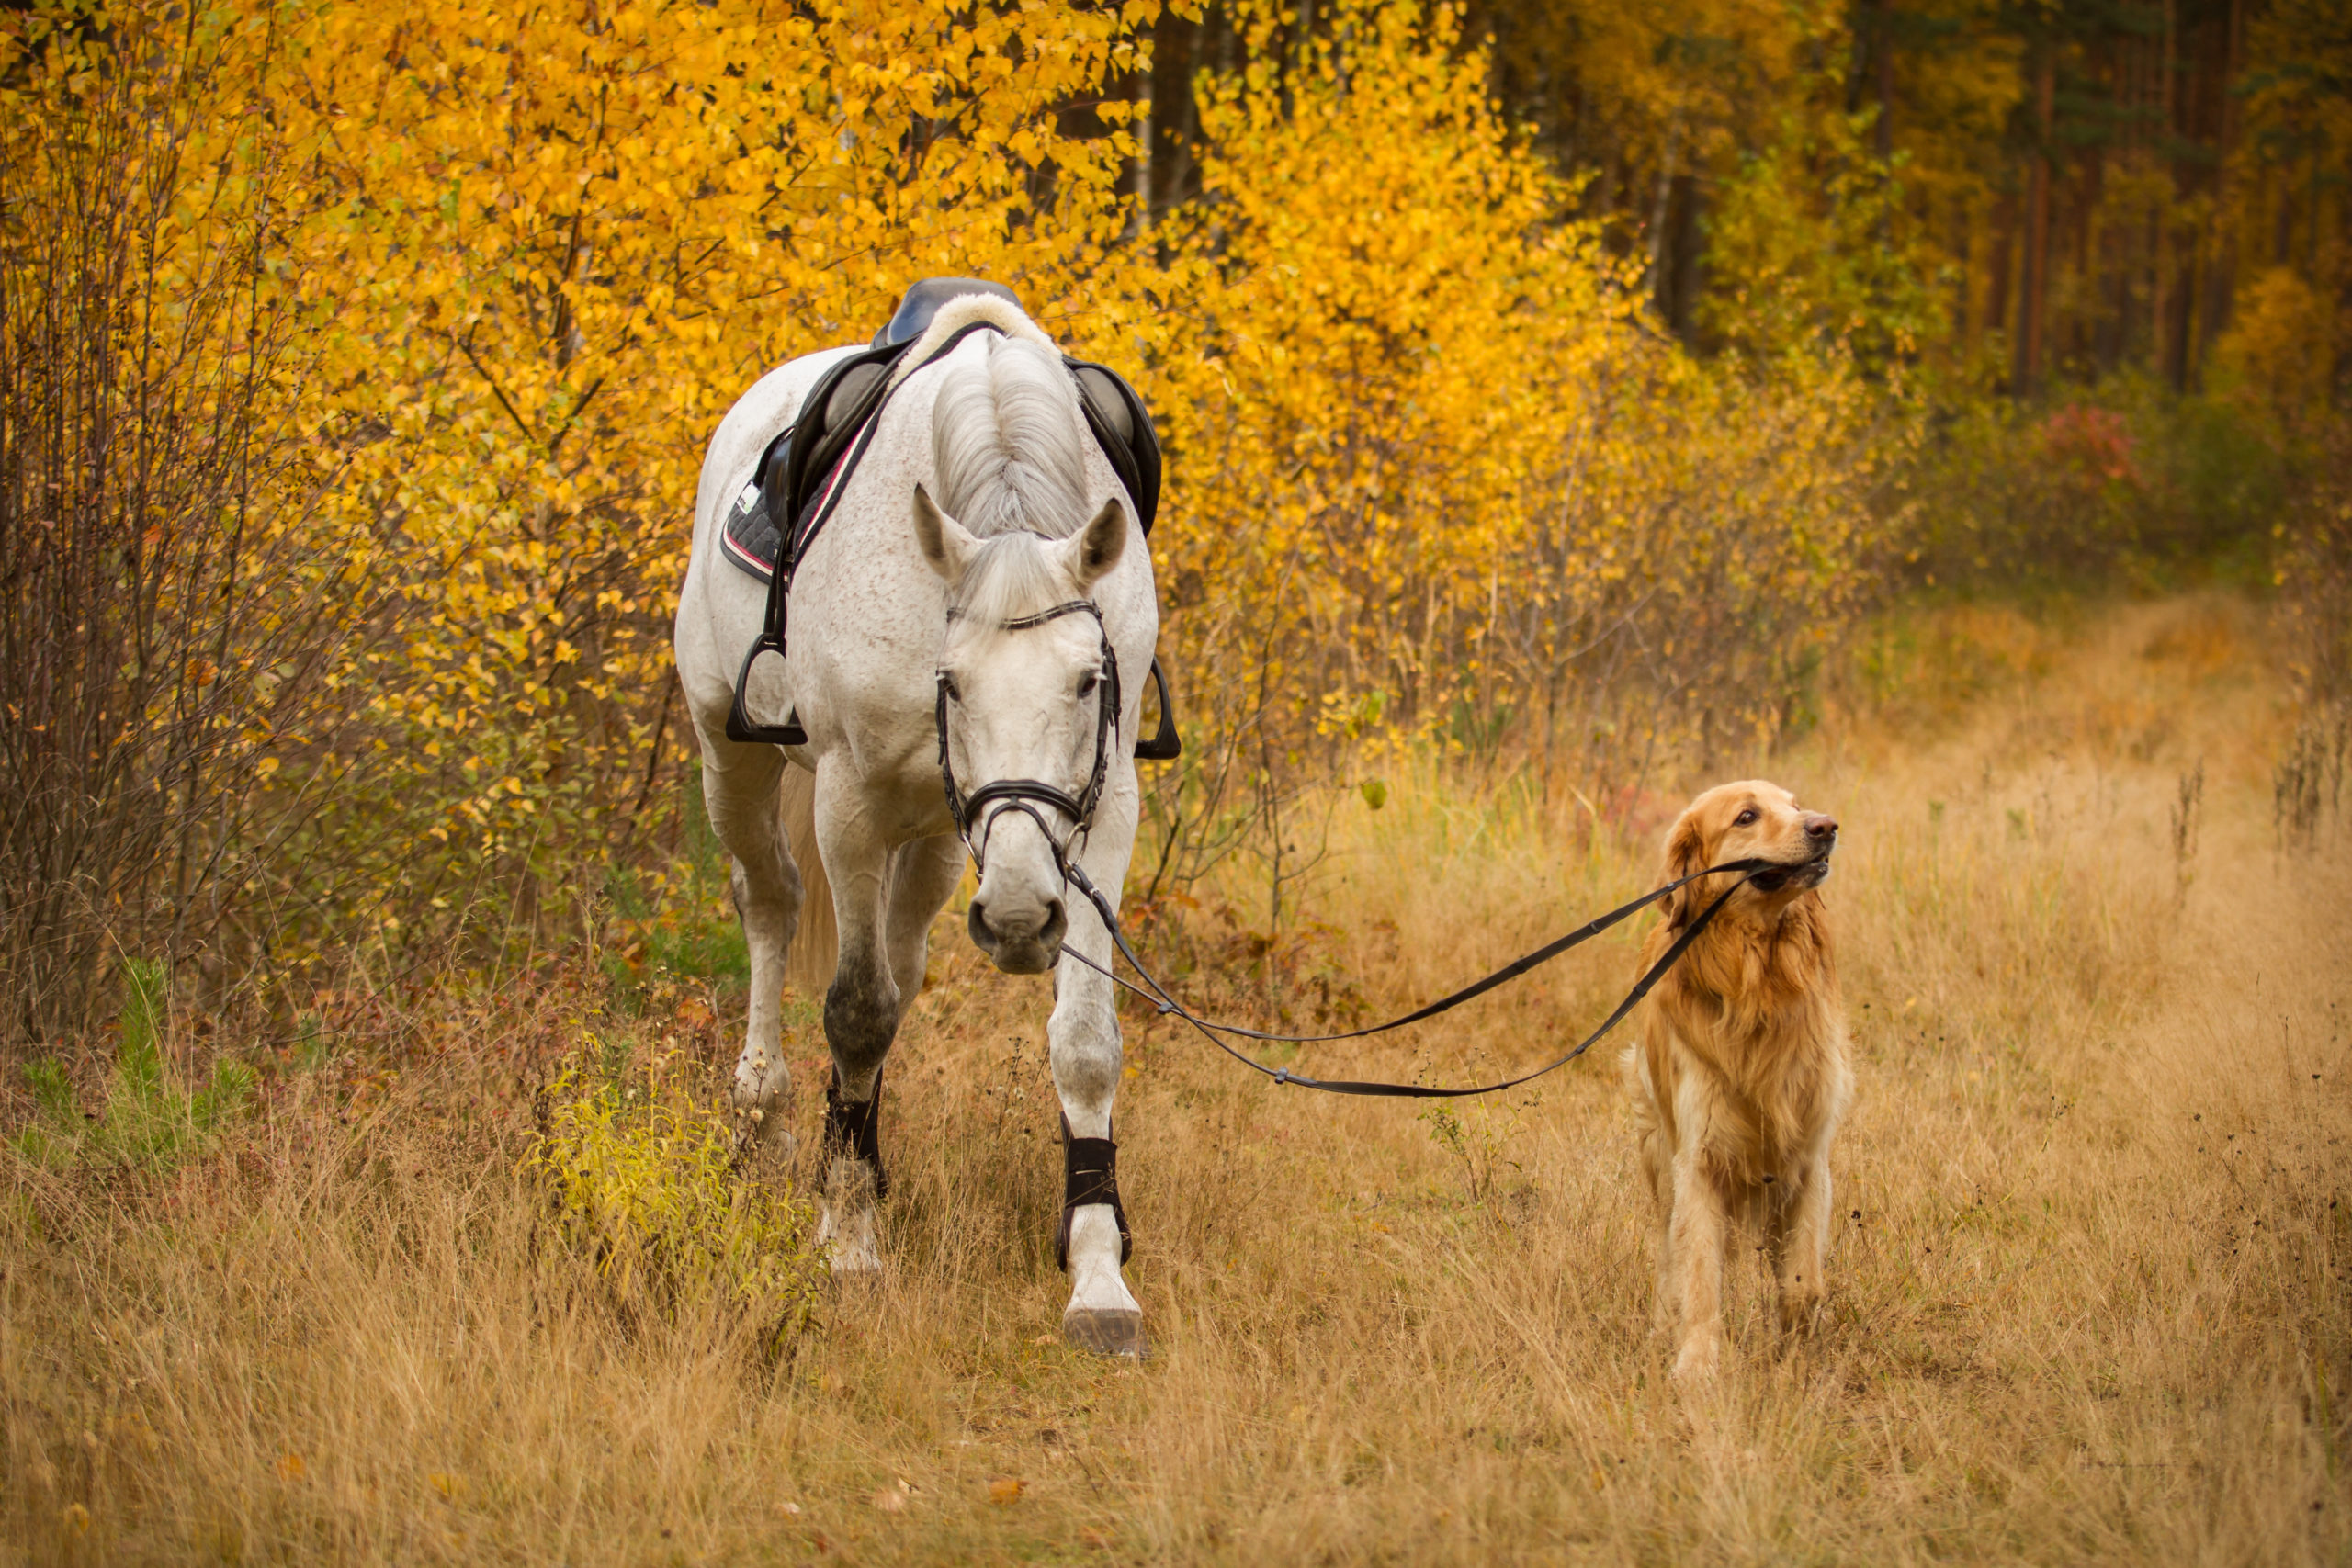Dog: (1561, 758, 1983, 1360)
Horse: (611, 278, 1267, 1377)
